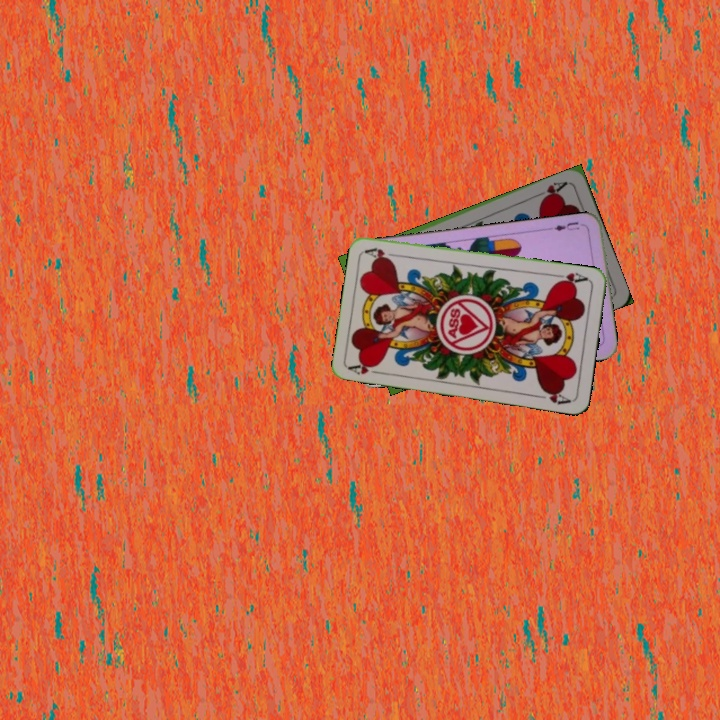EU: (546, 218, 587, 234)
HA: (532, 177, 570, 203), (550, 269, 590, 288), (346, 358, 386, 377)
